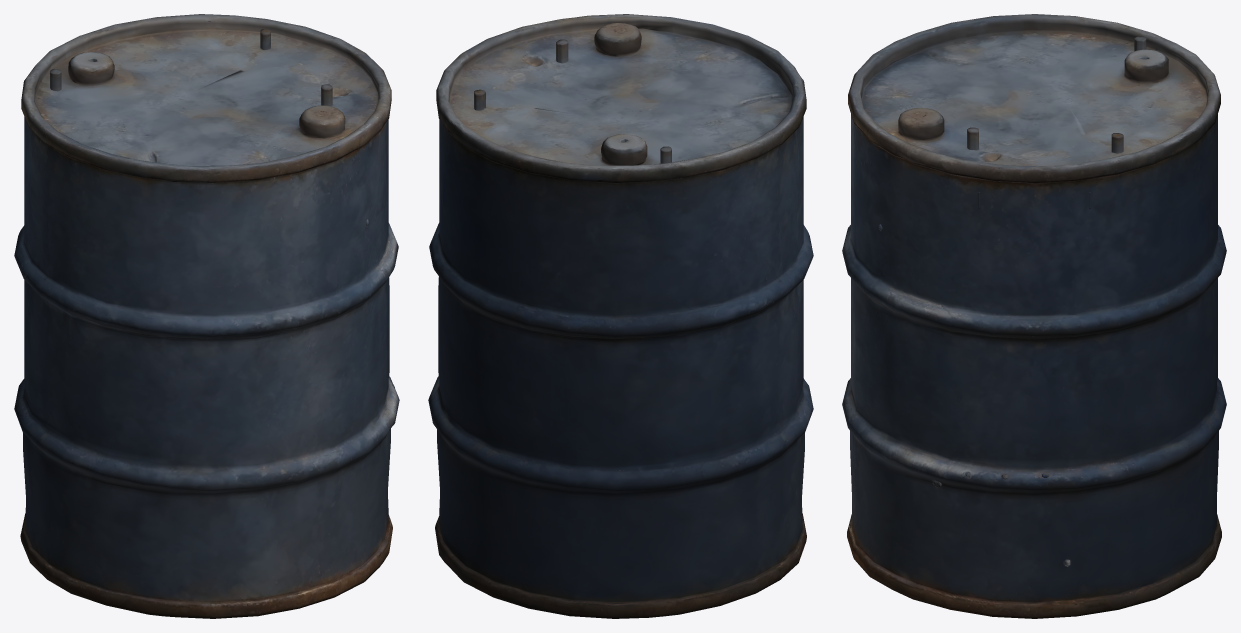
File: steel_drum_01_q3.fbx
3 views of the same model, side by side, from view 1: azimuth 30°, elevation 25°; view 2: azimuth 150°, elevation 25°; view 3: azimuth 270°, elevation 25° (orthographic).
Parts seen in each view (by area): view 1: tripo_node_88c14ee4; view 2: tripo_node_88c14ee4; view 3: tripo_node_88c14ee4.
Part boxes in pixels (bbox=[...]): tripo_node_88c14ee4: bbox=[14, 14, 399, 618]; tripo_node_88c14ee4: bbox=[428, 14, 813, 618]; tripo_node_88c14ee4: bbox=[842, 14, 1226, 618].
Bounding box in the file's own units: 0.7652 × 1 × 0.7652.
Materials: 1 (1 with a texture image).
